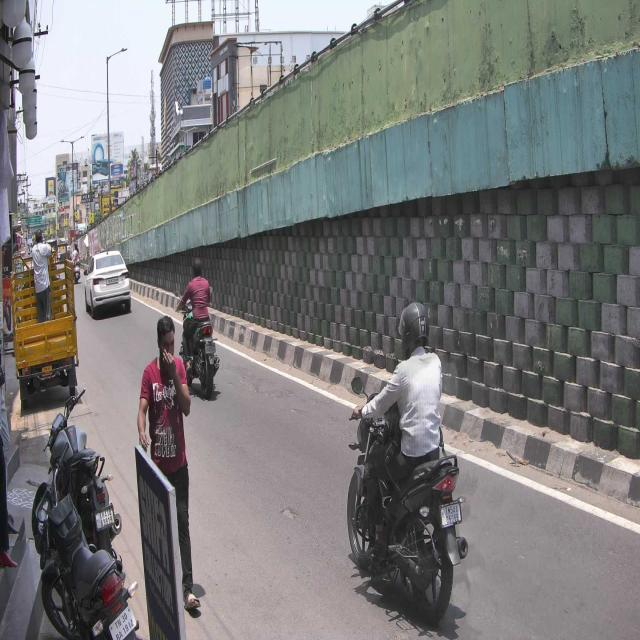single_rider: (348, 301, 468, 619)
